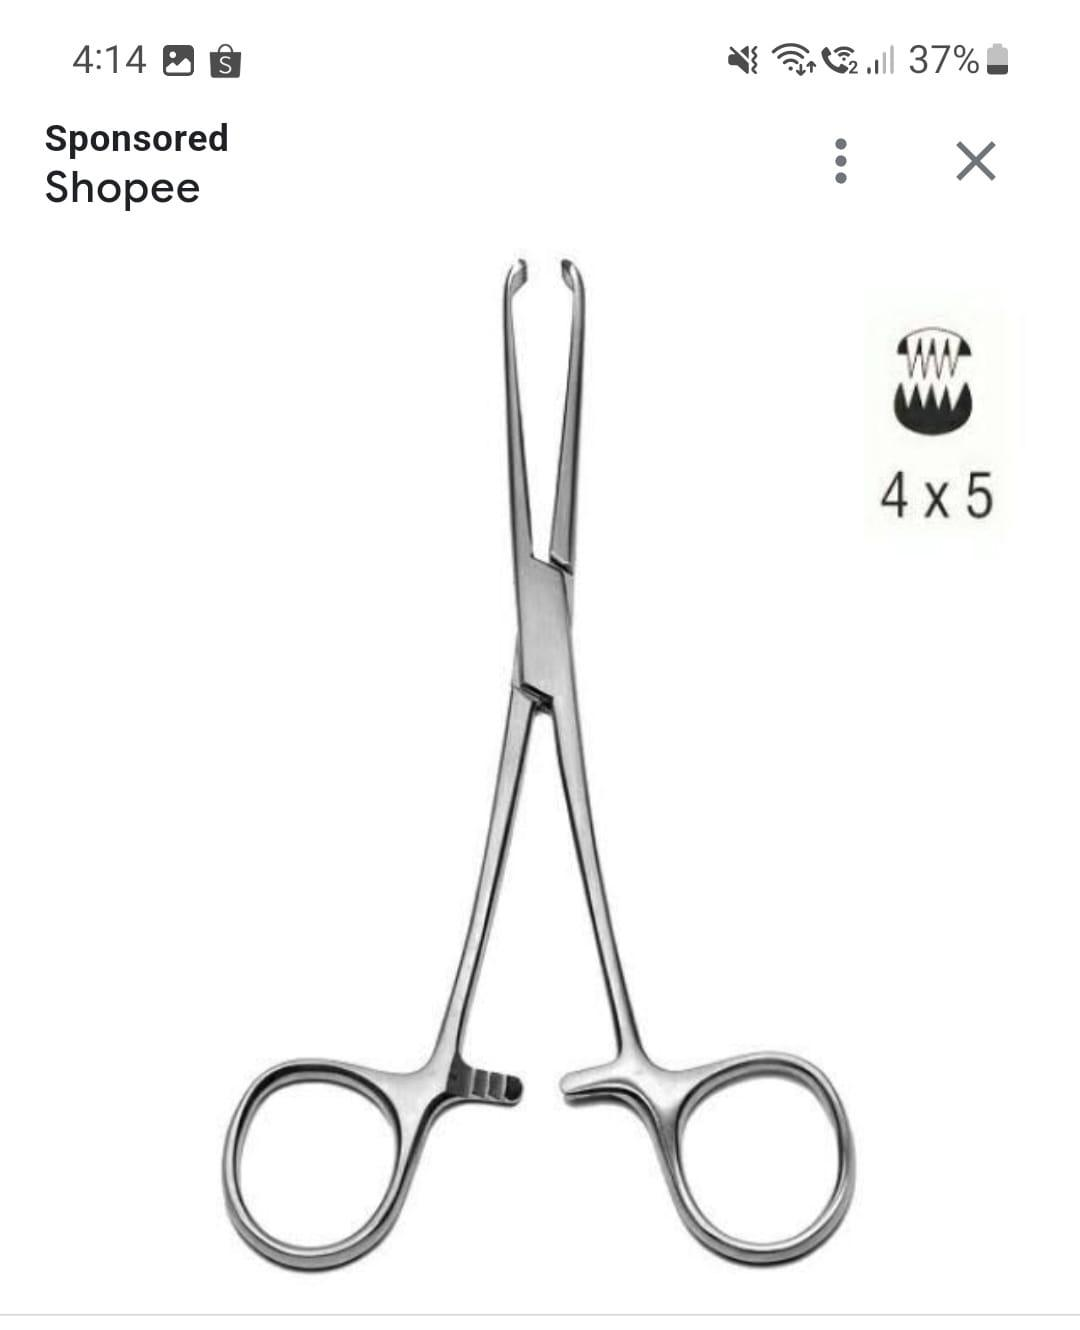Allis Forceps: (172, 242, 876, 1298)
